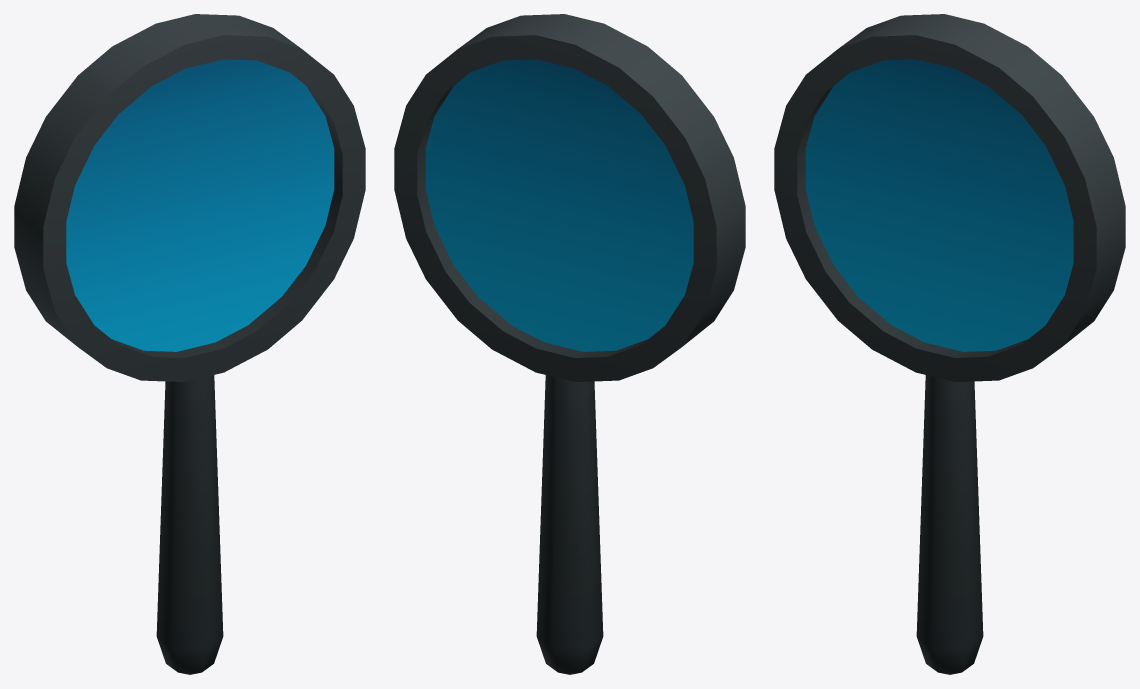
Rendered from Magnifier_01.fbx.
3 views of the same model, side by side, from view 1: azimuth 30°, elevation 25°; view 2: azimuth 150°, elevation 25°; view 3: azimuth 330°, elevation 25° (orthographic).
Parts seen in each view (by area): view 1: Magnifier_01; view 2: Magnifier_01; view 3: Magnifier_01.
Part boxes in pixels (left/top/right/bottom): Magnifier_01: left=14, top=14, right=365, bottom=674; Magnifier_01: left=394, top=14, right=745, bottom=674; Magnifier_01: left=774, top=14, right=1125, bottom=674.
Bounding box in the file's own units: 15.07 × 2.7 × 28.84.
